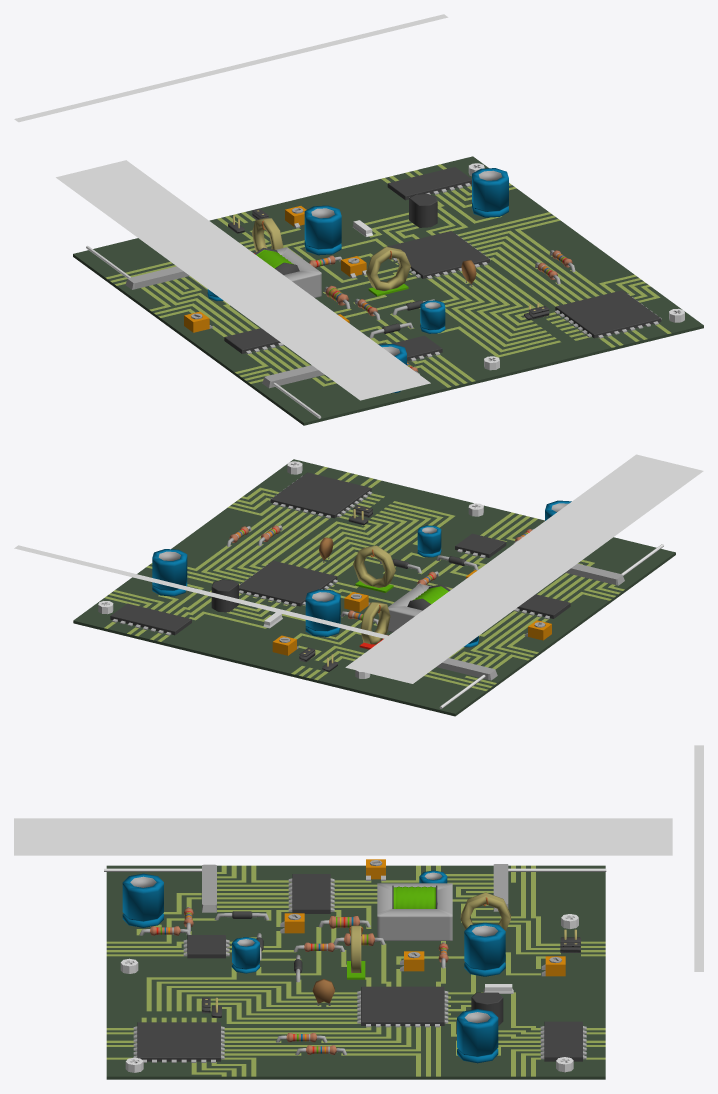
The model's file is circuitboard.glb.
The picture shows the model from 3 angles, top to bottom: view 1: azimuth 30°, elevation 25°; view 2: azimuth 150°, elevation 25°; view 3: azimuth 270°, elevation 25°; orthographic projection. The views are drawn at different scales.
Visible parts, largest first — view 1: board, Cube.001, CHIP.001, CHIP, Plane, Capacitor2, Capacitor2.001, transformer, DIP, Cylinder, DIP.001, transistor (+5 smaller); view 2: board, Cube.001, CHIP.001, CHIP, Plane, DIP, Capacitor2, Capacitor2.001, transformer, Cylinder, DIP.001, Cylinder.003 (+5 smaller); view 3: board, Cube.001, transformer, CHIP, CHIP.001, Plane, Capacitor2, Capacitor2.001, Capacitor2.002, DIP.001, DIP, DIP.002 (+6 smaller).
Boxes of the visible parts, left/top/right/bottom form: board: left=73, top=156, right=703, bottom=425; Cube.001: left=56, top=160, right=430, bottom=400; CHIP.001: left=554, top=290, right=661, bottom=338; CHIP: left=384, top=231, right=490, bottom=279; Plane: left=14, top=14, right=448, bottom=122; Capacitor2: left=304, top=205, right=341, bottom=255; Capacitor2.001: left=472, top=168, right=508, bottom=217; transformer: left=254, top=247, right=321, bottom=297; DIP: left=387, top=167, right=471, bottom=200; Cylinder: left=366, top=246, right=410, bottom=290; DIP.001: left=224, top=328, right=283, bottom=354; transistor: left=409, top=193, right=437, bottom=227; board: left=73, top=459, right=675, bottom=716; Cube.001: left=345, top=454, right=703, bottom=683; CHIP.001: left=270, top=472, right=372, bottom=518; CHIP: left=239, top=560, right=337, bottom=606; Plane: left=14, top=545, right=428, bottom=648; DIP: left=110, top=603, right=191, bottom=635; Capacitor2: left=305, top=589, right=340, bottom=636; Capacitor2.001: left=152, top=549, right=187, bottom=596; transformer: left=387, top=584, right=450, bottom=632; Cylinder: left=353, top=545, right=395, bottom=587; DIP.001: left=514, top=594, right=570, bottom=619; Cylinder.003: left=360, top=602, right=390, bottom=644; board: left=106, top=865, right=605, bottom=1079; Cube.001: left=14, top=818, right=672, bottom=855; transformer: left=377, top=883, right=452, bottom=940; CHIP: left=357, top=986, right=448, bottom=1027; CHIP.001: left=133, top=1022, right=224, bottom=1062; Plane: left=694, top=745, right=703, bottom=971; Capacitor2: left=464, top=922, right=505, bottom=976; Capacitor2.001: left=457, top=1009, right=498, bottom=1063; Capacitor2.002: left=122, top=873, right=163, bottom=927; DIP.001: left=288, top=874, right=334, bottom=913; DIP: left=540, top=1021, right=586, bottom=1061; DIP.002: left=183, top=935, right=229, bottom=958.
Size of the model in its own units: 10.75 by 2.61 by 13.83.
